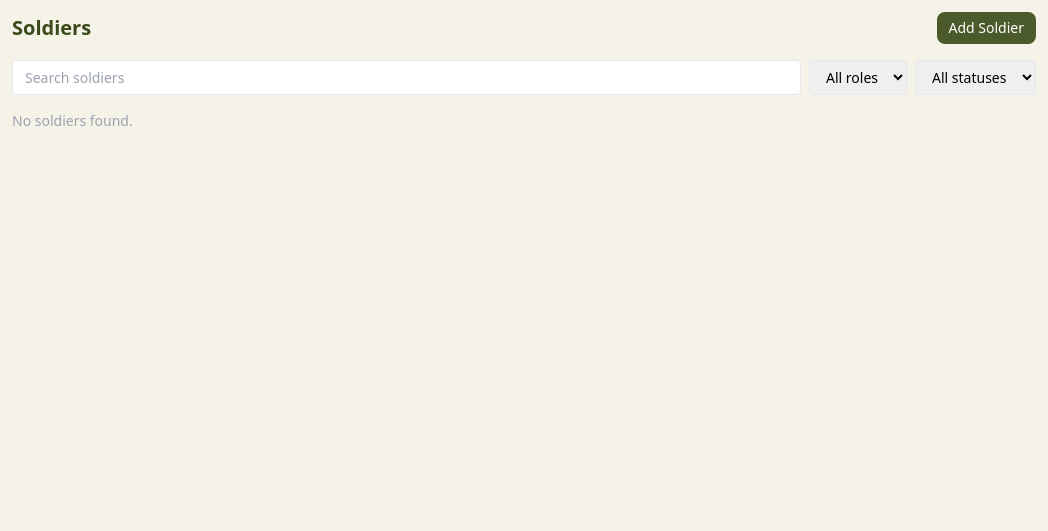
Test: SoldiersPage › disables Add button and shows error when end date is before start date
This screenshot has width=1048, height=531.
Click the button "Add Soldier".
click(986, 28)  # box top-left (936, 12), bottom-right (1036, 44)
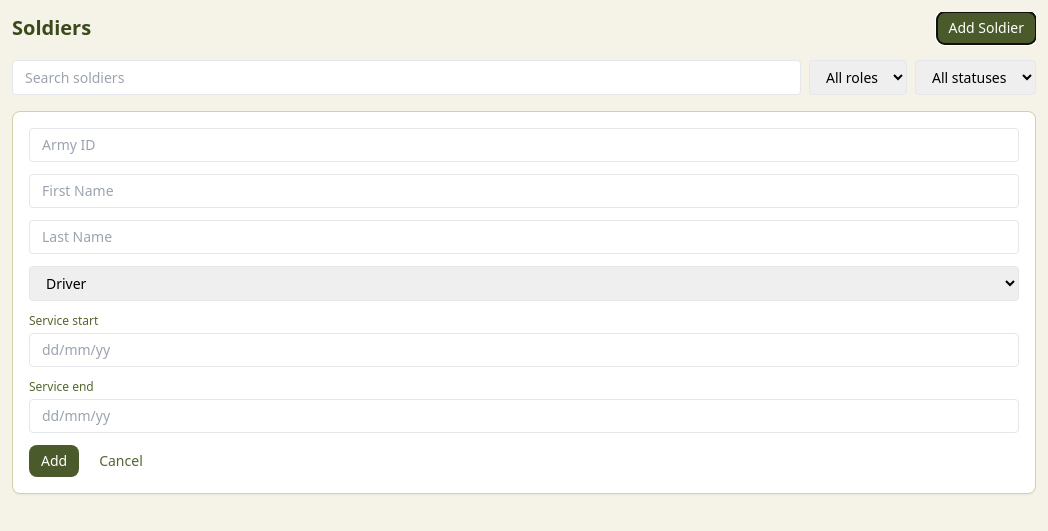
Type "01/12/26" into the field labelled "Service start".
click(524, 350); type("01/12/26")  # box top-left (29, 333), bottom-right (1019, 367)
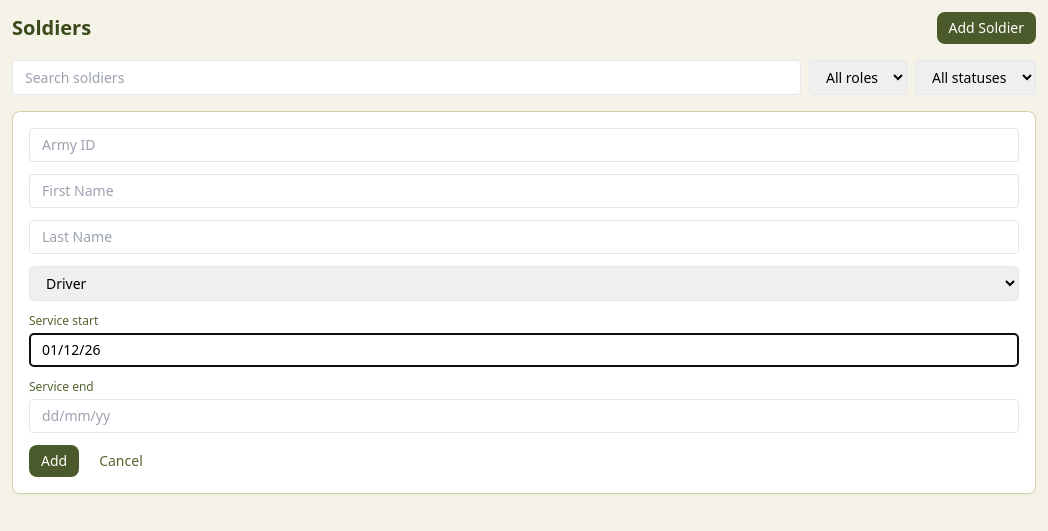
Type "01/01/26" into the field labelled "Service end".
click(524, 416); type("01/01/26")  # box top-left (29, 399), bottom-right (1019, 433)
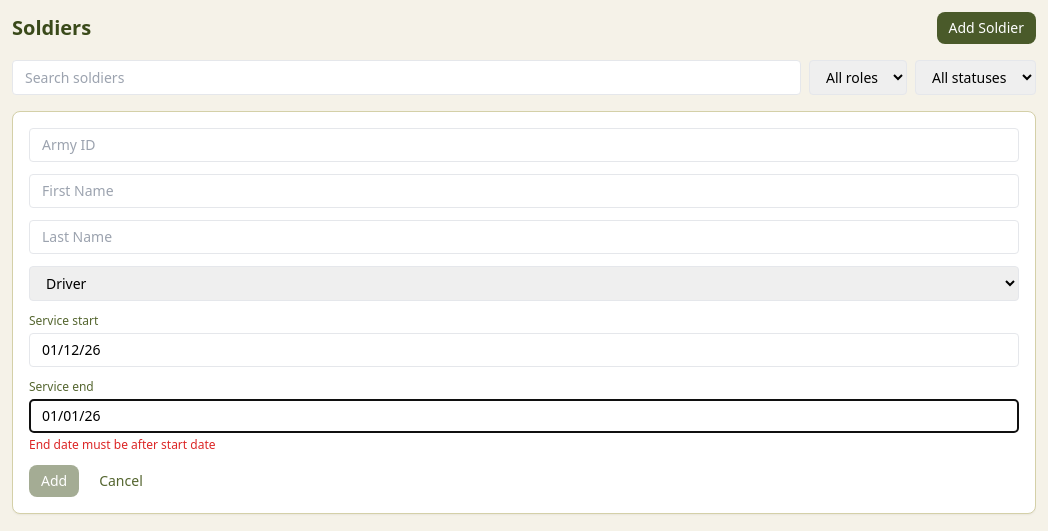
Expected: the button "Add" is disabled, top-left (29, 465), bottom-right (79, 497)
Expected: the text "End date must be after start date" is shown, top-left (29, 436), bottom-right (216, 453)
